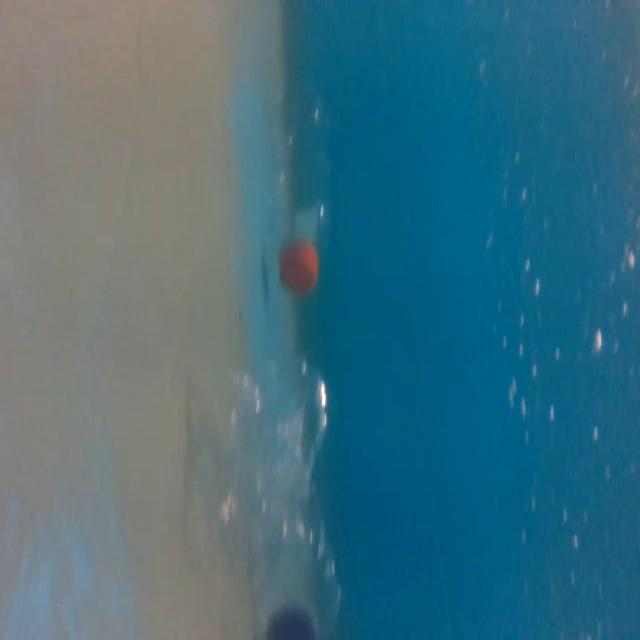plastic bottle: (204, 358, 349, 640), (260, 87, 346, 307)
